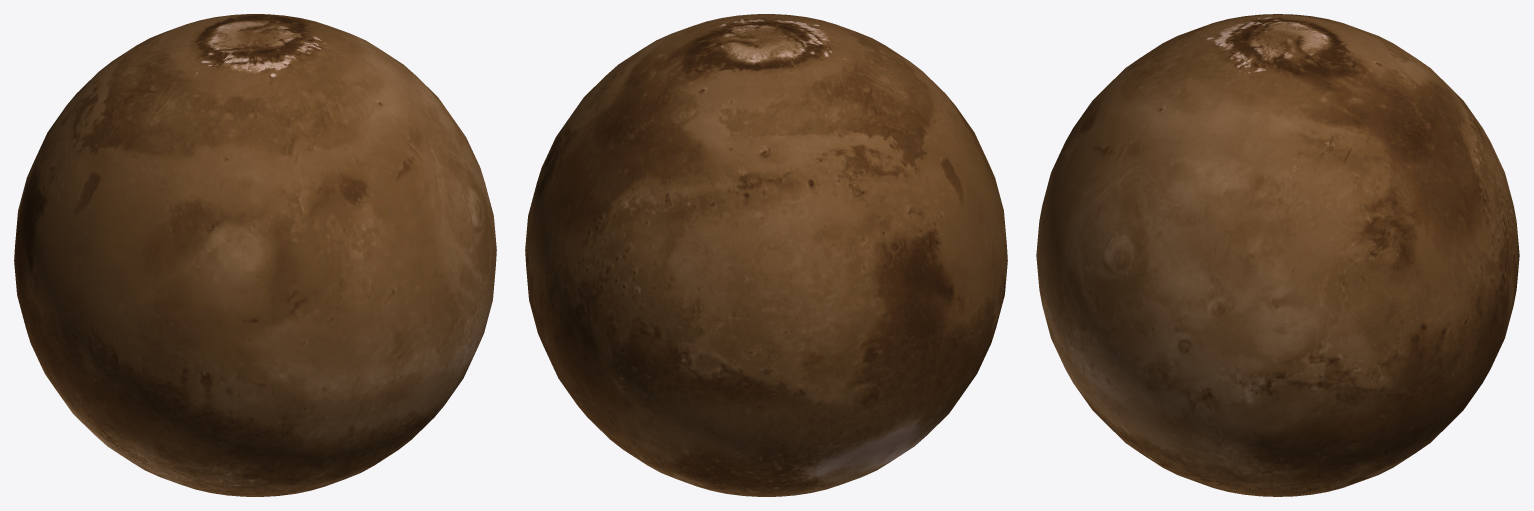
The model's file is Mars.FBX.
3 views of the same model, side by side, from view 1: azimuth 30°, elevation 25°; view 2: azimuth 150°, elevation 25°; view 3: azimuth 270°, elevation 25° (orthographic).
Parts seen in each view (by area): view 1: Sphere001; view 2: Sphere001; view 3: Sphere001.
Part boxes in pixels (x1,y1,x2,y2): Sphere001: (14,14,496,496); Sphere001: (525,14,1007,496); Sphere001: (1036,14,1519,496).
Bounding box in the file's own units: 22 × 22 × 22.
Materials: 1 (1 with a texture image).
